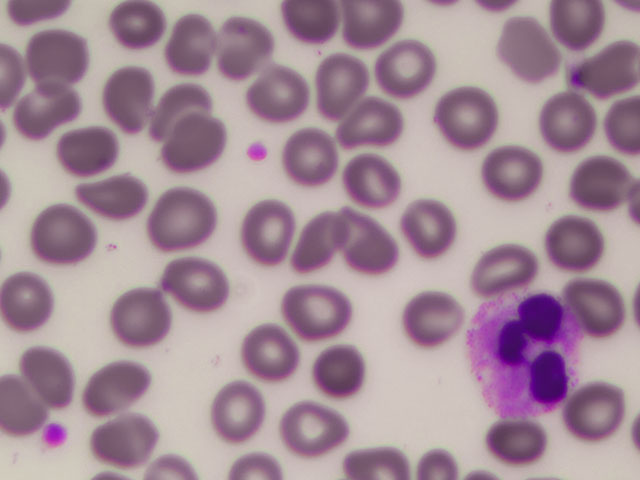Platelets: (39, 423, 74, 447), (245, 138, 269, 164)
RBC: (23, 27, 92, 90), (5, 79, 74, 142), (49, 117, 118, 180), (79, 162, 148, 225), (29, 200, 98, 263), (2, 270, 71, 333), (106, 285, 175, 348), (161, 249, 230, 312), (143, 188, 212, 251), (160, 115, 229, 178), (143, 76, 212, 139), (111, 66, 180, 129), (147, 8, 216, 71), (201, 10, 270, 73), (248, 63, 317, 126), (276, 126, 345, 189), (233, 195, 302, 258), (278, 207, 347, 270), (347, 214, 416, 277), (394, 195, 463, 258), (334, 146, 403, 209), (334, 102, 403, 165), (310, 44, 379, 107), (373, 36, 442, 99), (437, 82, 506, 145), (478, 140, 547, 203), (524, 82, 593, 145), (571, 33, 640, 96), (562, 149, 631, 212), (482, 25, 551, 88), (538, 213, 607, 276), (571, 272, 640, 335), (471, 233, 540, 296), (399, 279, 468, 342), (313, 336, 382, 399), (286, 281, 355, 344), (237, 318, 306, 381), (206, 378, 275, 441), (285, 397, 354, 460), (479, 414, 548, 477), (571, 372, 640, 435), (94, 405, 163, 468), (82, 347, 151, 410), (22, 343, 91, 406), (1, 375, 70, 438), (100, 1, 169, 63), (541, 1, 610, 63), (342, 441, 402, 480)
WBC: (462, 294, 587, 416)
